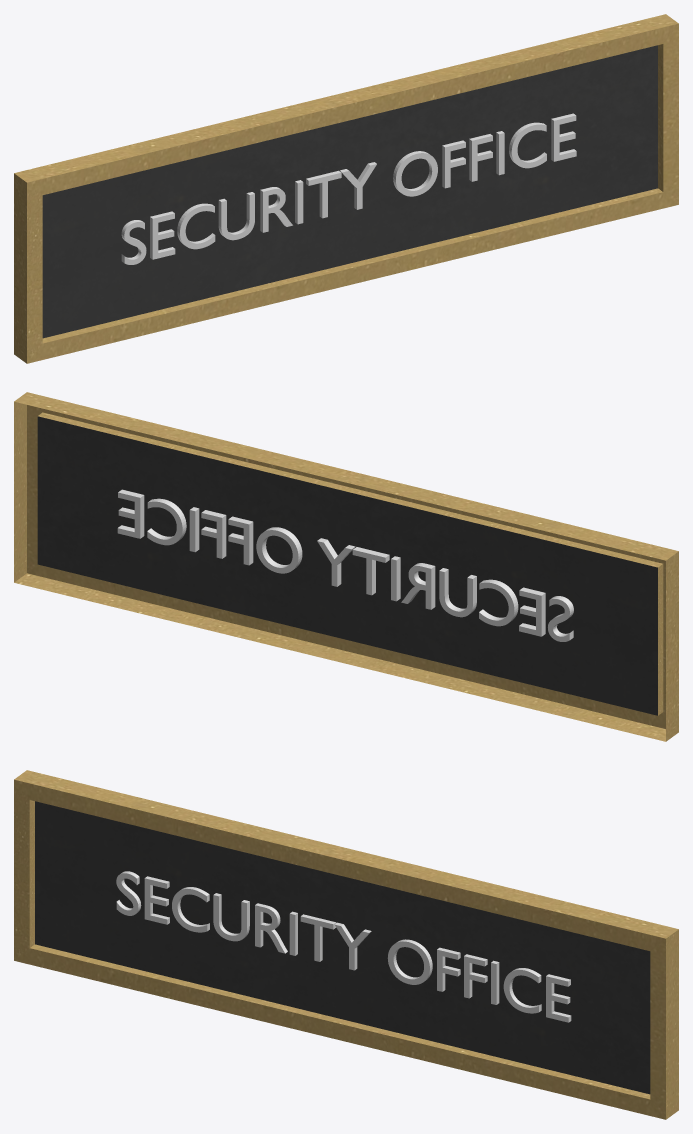
The model's file is Plate_Security.fbx.
The picture shows the model from 3 angles, top to bottom: view 1: azimuth 30°, elevation 25°; view 2: azimuth 150°, elevation 25°; view 3: azimuth 330°, elevation 25°; orthographic projection.
Parts seen in each view (by area): view 1: NameplateBriefingRoom.004; view 2: NameplateBriefingRoom.004; view 3: NameplateBriefingRoom.004.
Boxes of the visible parts, x1,y1,x2,y2 form: NameplateBriefingRoom.004: (14, 14, 678, 363); NameplateBriefingRoom.004: (14, 392, 678, 741); NameplateBriefingRoom.004: (14, 770, 678, 1119).
Bounding box in the file's own units: 29 × 7.7 × 1.
Materials: 3 (2 with a texture image).
